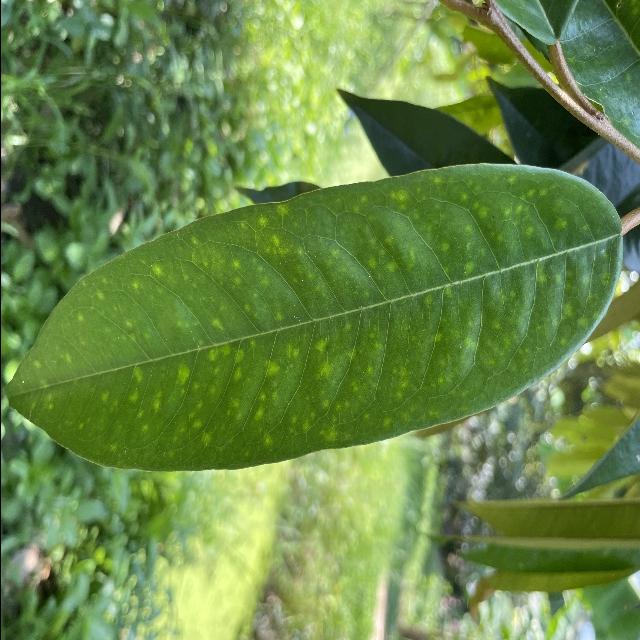Leaf Spot: (0, 155, 629, 485)
